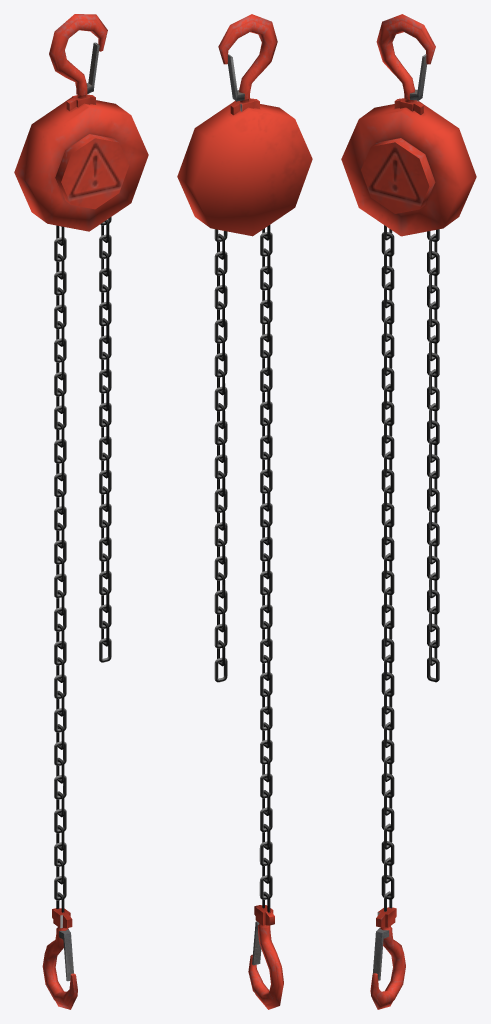
File: Carrucola.fbx
3 renders of one model, left to right at view 1: azimuth 30°, elevation 25°; view 2: azimuth 210°, elevation 25°; view 3: azimuth 330°, elevation 25°, orthographic.
Parts seen in each view (by area): view 1: Carrucola; view 2: Carrucola; view 3: Carrucola.
Boxes of the visible parts, x1,y1,x2,y2 form: Carrucola: (14, 14, 148, 1009); Carrucola: (177, 14, 312, 1009); Carrucola: (341, 14, 476, 1009).
Size of the model in its own units: 1.78 by 14.16 by 0.8831.
